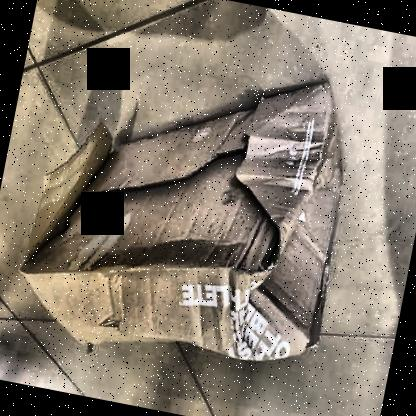defect parcel: (0, 20, 416, 401)
